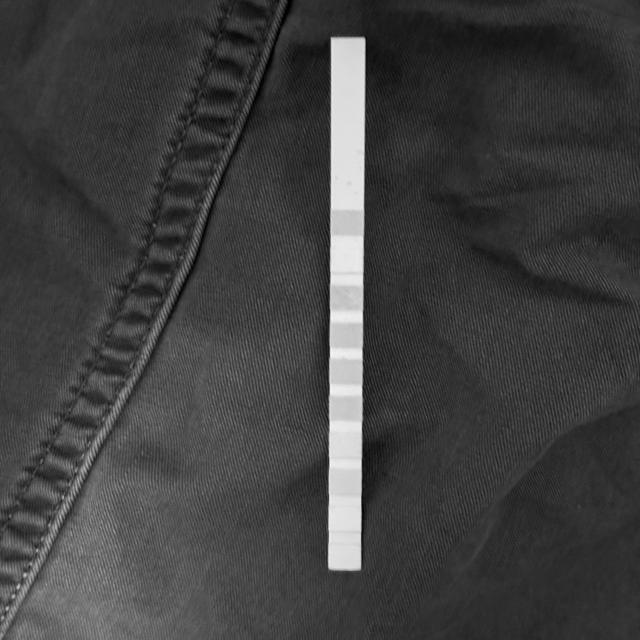Bilirubin: (332, 252, 362, 272)
Blood: (332, 360, 362, 384)
Glucose: (332, 212, 362, 234)
Ketone: (332, 286, 361, 308)
Leukocytes: (330, 546, 360, 568)
Nitrite: (330, 511, 360, 530)
Protein: (330, 434, 360, 457)
SpGravity: (331, 324, 361, 346)
Urobilinogen: (331, 471, 360, 494)
background: (0, 0, 640, 640)
pH: (330, 398, 360, 419)
strip: (327, 59, 365, 570)
